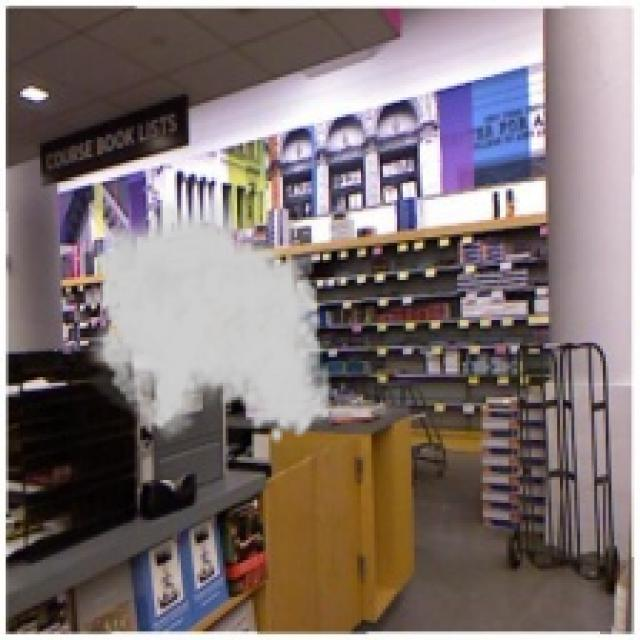smoke: (80, 188, 334, 446)
